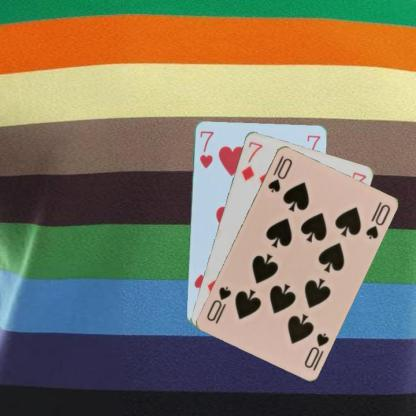10s: (265, 152, 294, 194), (301, 330, 330, 369)
7d: (239, 138, 264, 182)
7h: (197, 128, 215, 169)
